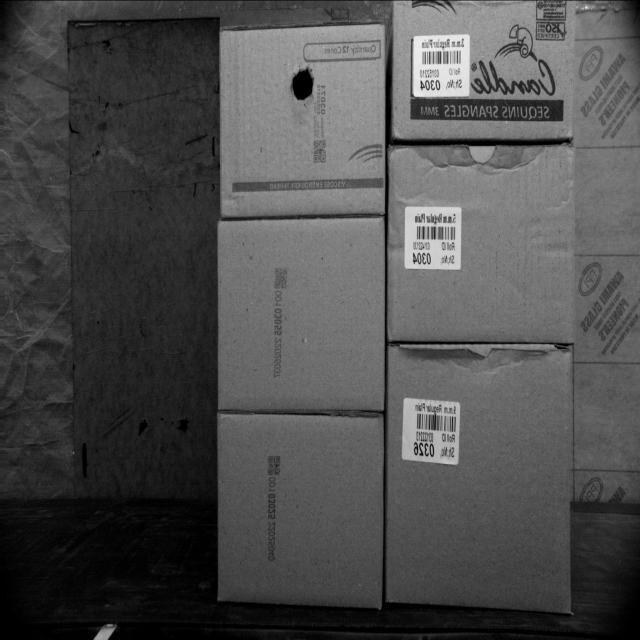cardboxes: (385, 348, 573, 610), (388, 144, 576, 344), (215, 25, 388, 218), (214, 414, 384, 610), (214, 220, 385, 411), (390, 0, 576, 138)
